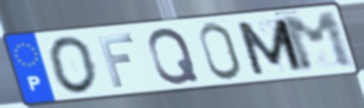0: (196, 20, 245, 82)
F: (95, 32, 136, 89)
M: (278, 10, 358, 74), (232, 16, 306, 77)
O: (46, 34, 100, 96)
Q: (146, 25, 202, 86)
